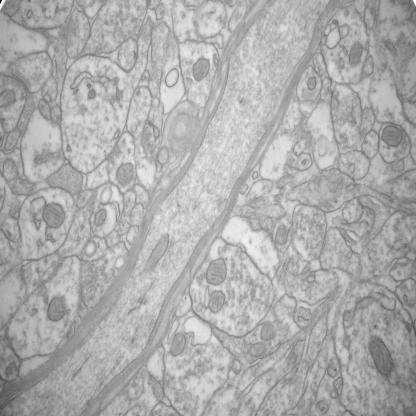mitochondria: (368, 336, 394, 376), (144, 232, 170, 268), (204, 258, 228, 286), (380, 123, 404, 150), (42, 202, 65, 228), (45, 296, 66, 322), (192, 55, 211, 81), (116, 161, 134, 187), (207, 289, 225, 315), (170, 331, 187, 358), (348, 41, 364, 66), (260, 323, 279, 342), (247, 342, 267, 358), (274, 223, 288, 245), (94, 208, 107, 227), (307, 74, 317, 91), (87, 88, 97, 100)
